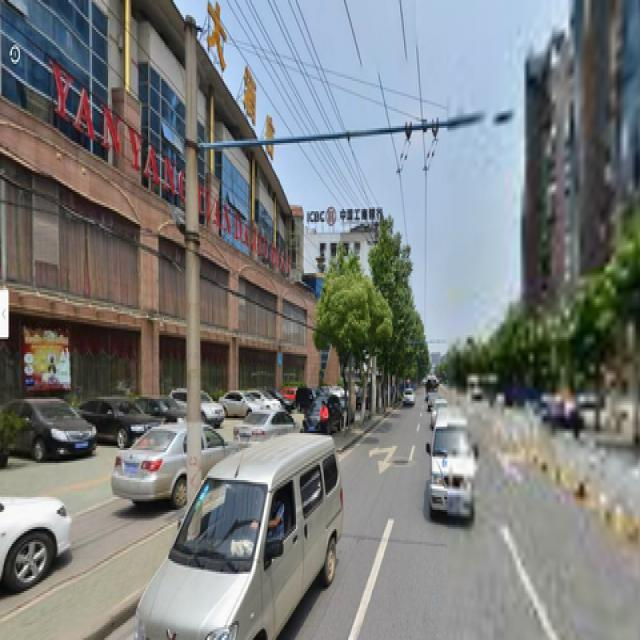cinn: (331, 264, 369, 426)
